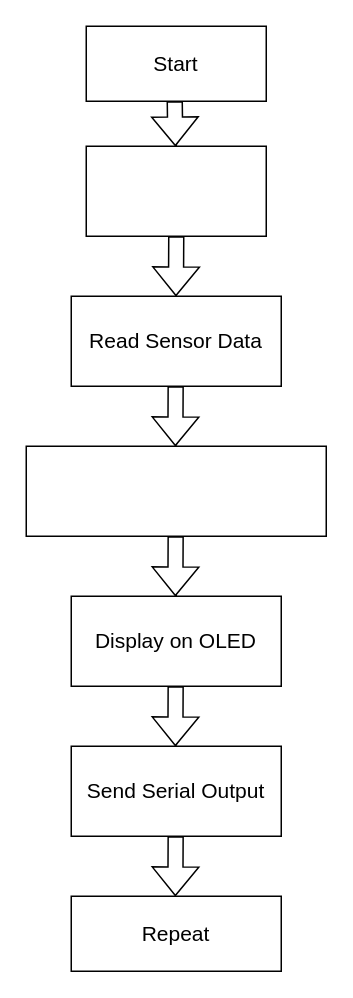
Image size: 353x998. Some labels were removed from this diagram. Here are the shapes that lost their labels. From the top down, the box of each, then its label:
(85, 145, 266, 236): Initialize Sensors
(25, 445, 326, 536): Store in Data Structures
